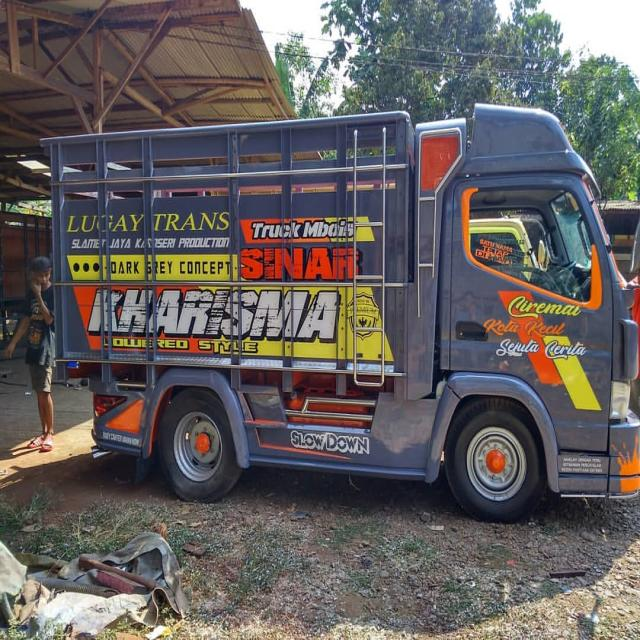truck: (37, 100, 639, 523)
